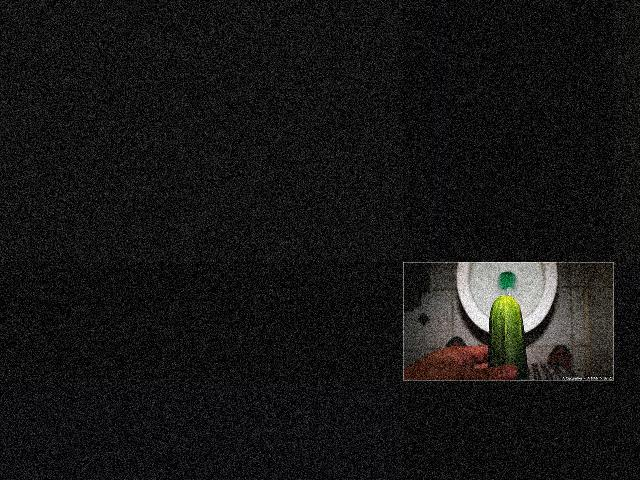cucumber: (489, 296, 528, 381)
